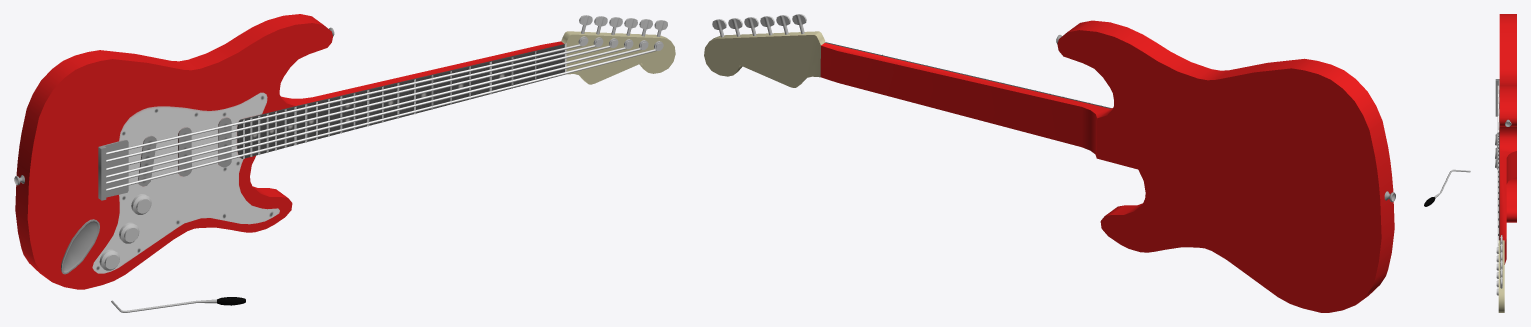
The picture shows the model from 3 angles, left to right: view 1: azimuth 30°, elevation 25°; view 2: azimuth 150°, elevation 25°; view 3: azimuth 270°, elevation 25°; orthographic projection. The views are drawn at different scales.
Visible parts, largest first — view 1: Guitar, Strings, Tuning_Keys, Controls, Vibrato; view 2: Guitar, Tuning_Keys; view 3: Guitar, Strings, Tuning_Keys, Vibrato, Controls.
Part boxes in pixels (bbox=[...]): Guitar: bbox=[14, 14, 675, 289]; Strings: bbox=[106, 44, 656, 191]; Tuning_Keys: bbox=[578, 15, 667, 50]; Controls: bbox=[99, 194, 151, 270]; Vibrato: bbox=[111, 297, 245, 312]; Guitar: bbox=[704, 20, 1395, 312]; Tuning_Keys: bbox=[712, 14, 806, 37]; Guitar: bbox=[1495, 14, 1516, 312]; Strings: bbox=[1497, 85, 1498, 288]; Tuning_Keys: bbox=[1496, 235, 1502, 295]; Vibrato: bbox=[1424, 169, 1470, 206]; Controls: bbox=[1495, 132, 1497, 169].
Bounding box in the file's own units: 4.98 × 1.65 × 0.8854.
Materials: 5 (3 with a texture image).
